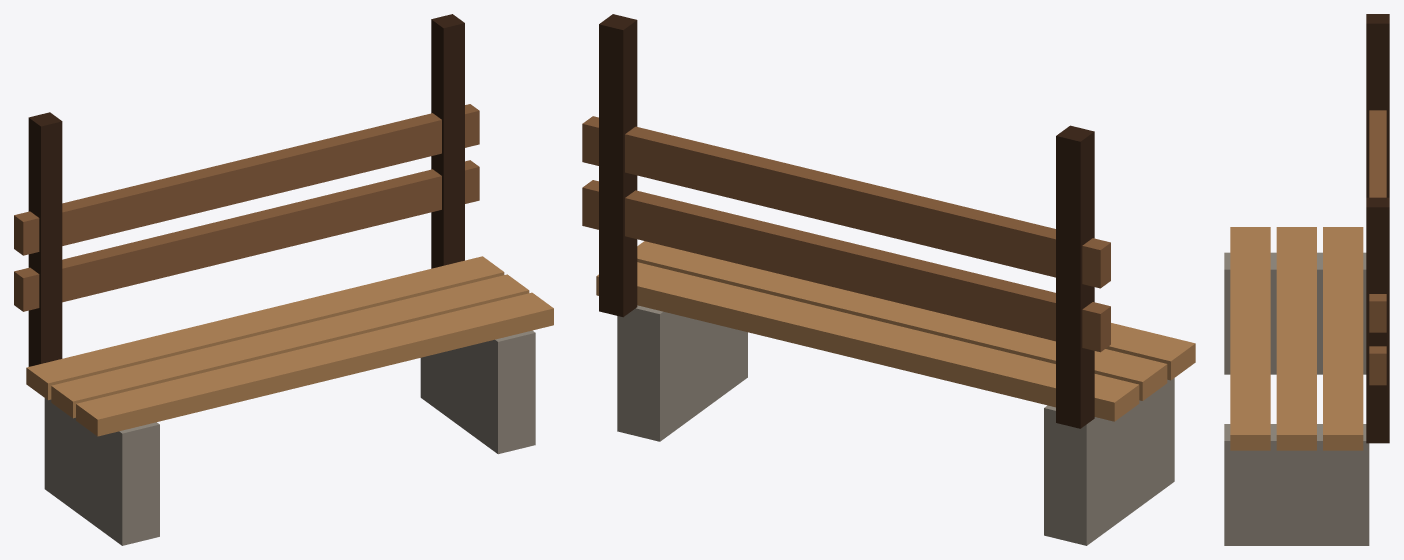
Rendered from bench.fbx.
3 renders of one model, left to right at view 1: azimuth 30°, elevation 25°; view 2: azimuth 150°, elevation 25°; view 3: azimuth 270°, elevation 25°, orthographic. The views are drawn at different scales.
Visible parts, largest first — view 1: bench; view 2: bench; view 3: bench.
Boxes of the visible parts, x1=… form: bench: x1=14, y1=14, x2=553, y2=545; bench: x1=582, y1=14, x2=1195, y2=545; bench: x1=1224, y1=14, x2=1389, y2=545.
Size of the model in its own units: 1.7 by 1.3 by 0.57.
